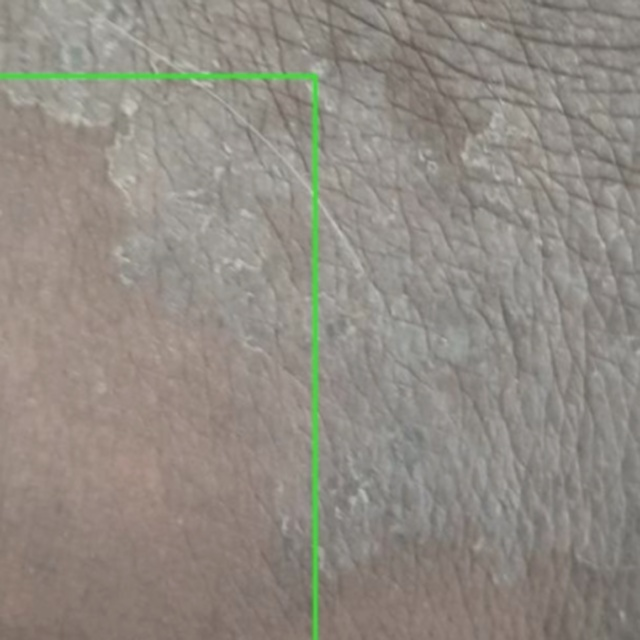Eczema: (0, 76, 315, 639)
